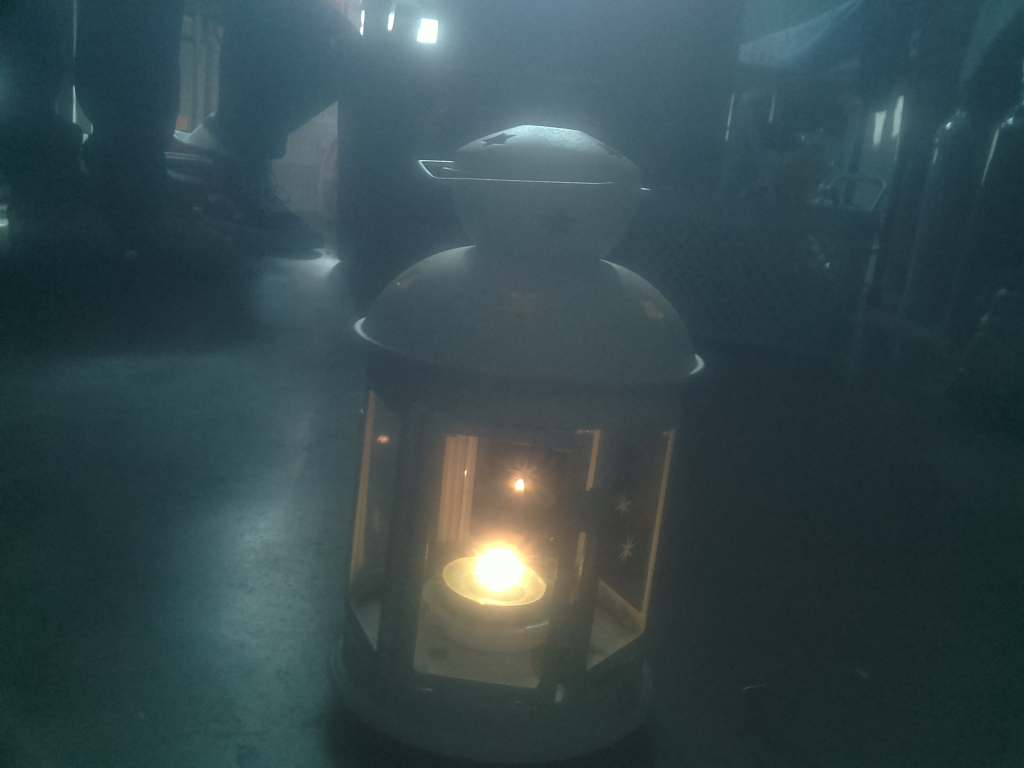fire: (439, 528, 568, 638)
